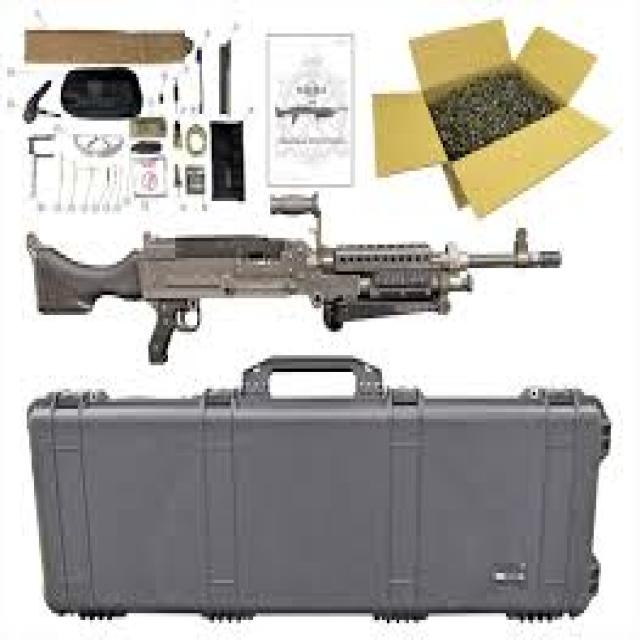Gun: (7, 208, 600, 363)
